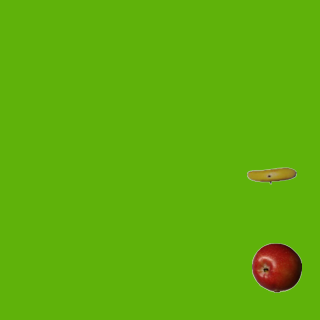Apple Braeburn: (251, 242, 301, 292)
Banana: (246, 150, 296, 200)
